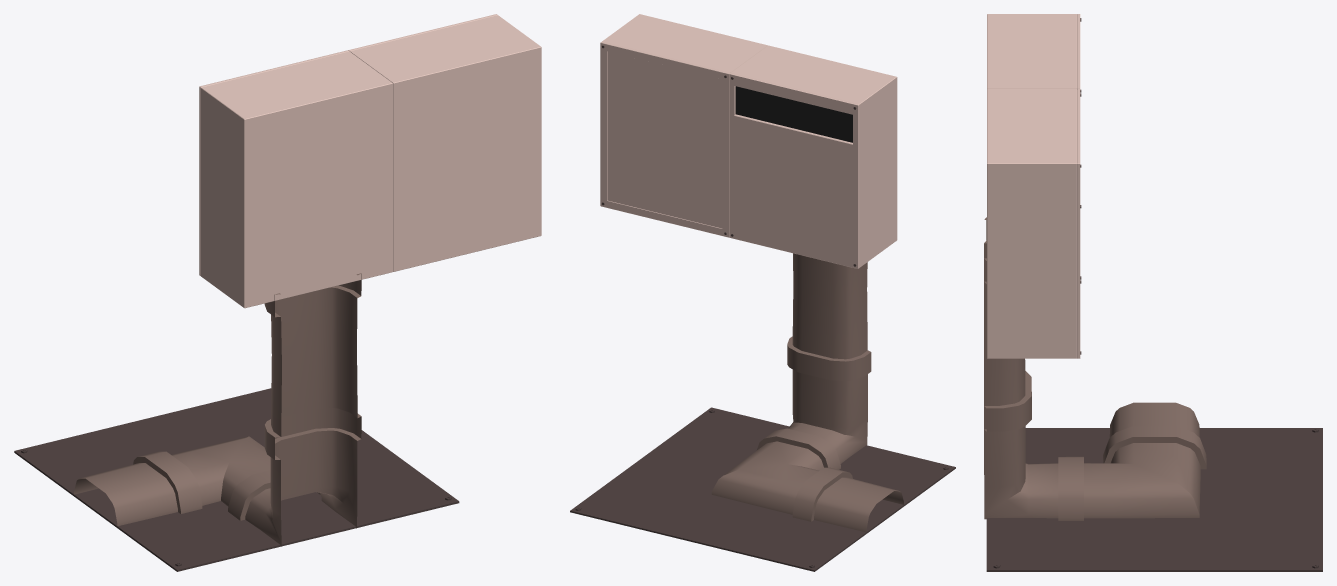
The model's file is CrematoriumBox.fbx.
3 views of the same model, side by side, from view 1: azimuth 30°, elevation 25°; view 2: azimuth 150°, elevation 25°; view 3: azimuth 270°, elevation 25° (orthographic). The views are drawn at different scales.
Visible parts, largest first — view 1: CrematoriumBox, Pipe0001.002, PipeBase.001; view 2: CrematoriumBox, Pipe0001.002, PipeBase.001, Door; view 3: CrematoriumBox, PipeBase.001, Pipe0001.002.
Boxes of the visible parts, x1,y1,x2,y2 form: CrematoriumBox: [199, 14, 541, 308]; Pipe0001.002: [74, 273, 361, 546]; PipeBase.001: [14, 388, 459, 571]; CrematoriumBox: [600, 14, 897, 268]; Pipe0001.002: [711, 253, 903, 532]; PipeBase.001: [570, 407, 955, 571]; Door: [607, 51, 722, 228]; CrematoriumBox: [987, 14, 1080, 358]; PipeBase.001: [986, 428, 1322, 571]; Pipe0001.002: [984, 217, 1206, 520].
Bounding box in the file's own units: 129 × 148 × 101.
